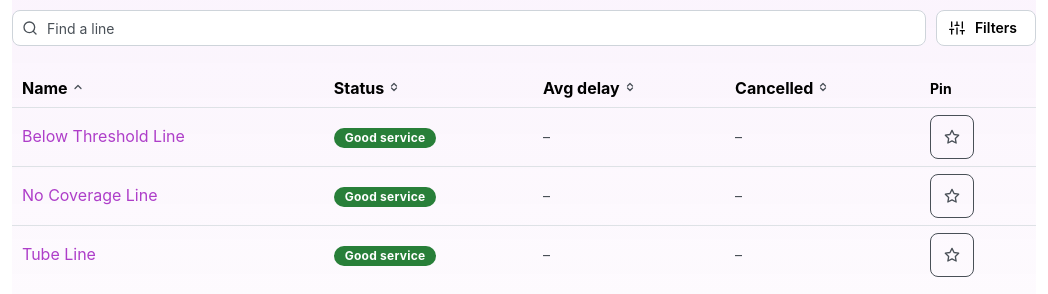
it: AllLinesTable dash tooltip › shows the below-threshold reason on hover for a line with thin coverage
Note: The tooltip wraps the cell text, whose en dash is an aria-hidden span.
Hover over the 1st element showing "–" at x=568, y=146, box [542,128,594,164]
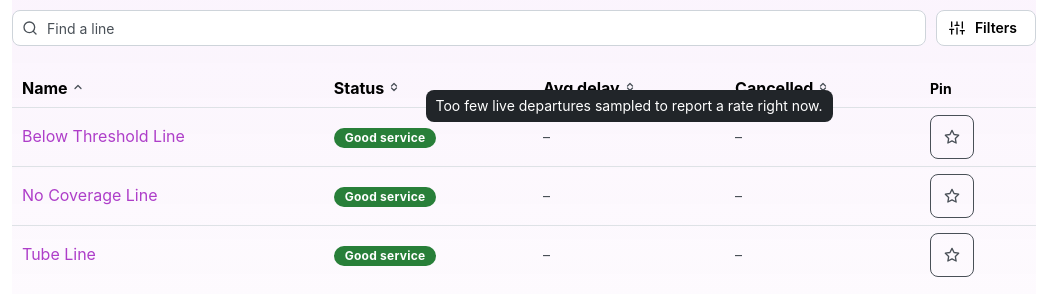
Now the tooltip reads "Too few live departures sampled to report a rate right now.", box [436,97,822,114]
